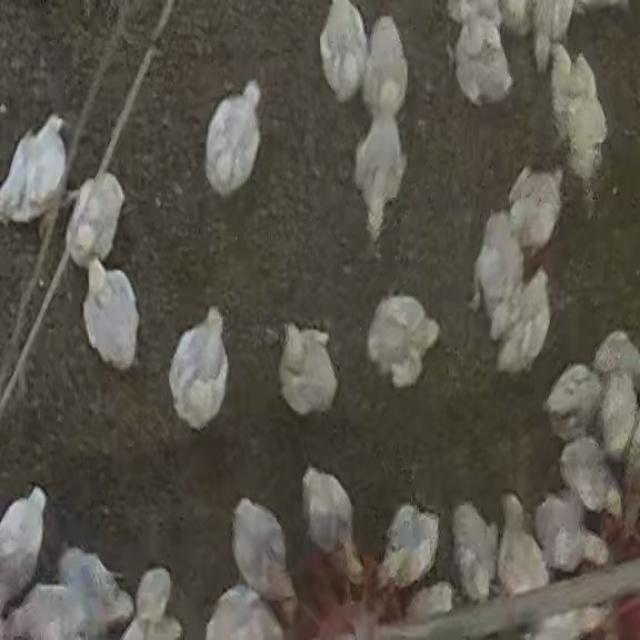chicken: (232, 491, 305, 621), (297, 458, 371, 586), (166, 304, 232, 433), (79, 257, 145, 375), (366, 292, 442, 394), (204, 77, 265, 196), (352, 118, 408, 240), (276, 318, 342, 420), (65, 168, 130, 268), (376, 500, 444, 591), (317, 0, 372, 103), (362, 13, 412, 117), (448, 500, 498, 602), (498, 490, 546, 596)
